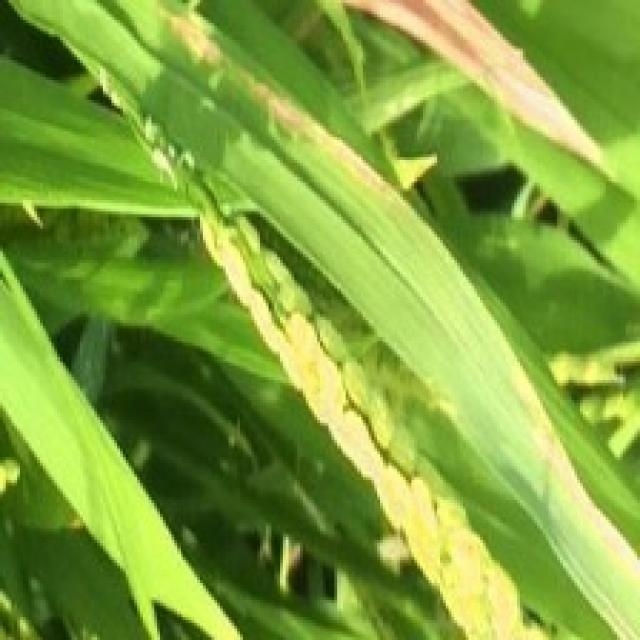Unhealthy: (333, 0, 617, 186), (251, 80, 409, 204), (171, 0, 222, 70)
